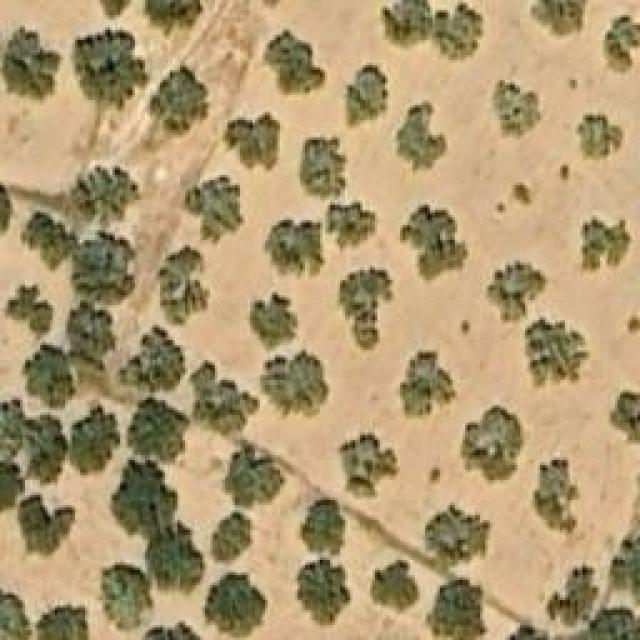Tree: (382, 0, 482, 62), (73, 30, 148, 110), (0, 398, 70, 483), (458, 405, 531, 485), (400, 205, 470, 285), (190, 363, 260, 436), (485, 257, 560, 325), (0, 25, 62, 102), (260, 350, 328, 420), (522, 320, 590, 390), (70, 230, 135, 303), (340, 268, 395, 353), (110, 465, 177, 534), (203, 570, 268, 640), (117, 328, 185, 393), (158, 245, 211, 328), (185, 175, 245, 248), (140, 523, 207, 585), (150, 65, 210, 133), (225, 440, 285, 508), (125, 398, 188, 460), (338, 433, 398, 498), (395, 103, 448, 176), (265, 30, 325, 93), (423, 580, 486, 640), (425, 502, 490, 560), (400, 350, 455, 418), (68, 405, 121, 475), (263, 220, 326, 278), (298, 563, 353, 628), (95, 565, 152, 627), (20, 495, 75, 558), (20, 348, 75, 411), (533, 458, 578, 533), (225, 112, 283, 170), (298, 138, 348, 203), (64, 308, 115, 371), (70, 168, 130, 221), (493, 78, 546, 138), (548, 565, 598, 628), (342, 63, 390, 128), (245, 293, 298, 348), (3, 283, 58, 335), (580, 220, 633, 270), (297, 500, 345, 555), (325, 200, 375, 248), (602, 15, 640, 75), (578, 113, 623, 163), (145, 0, 208, 35), (210, 510, 250, 565), (610, 537, 640, 605), (530, 0, 588, 35), (373, 563, 418, 608), (38, 602, 91, 640), (28, 215, 68, 263), (582, 607, 639, 640), (610, 393, 640, 443), (0, 460, 25, 518), (0, 587, 27, 640), (138, 622, 203, 640), (490, 625, 550, 640), (98, 0, 138, 20), (510, 183, 540, 208)
